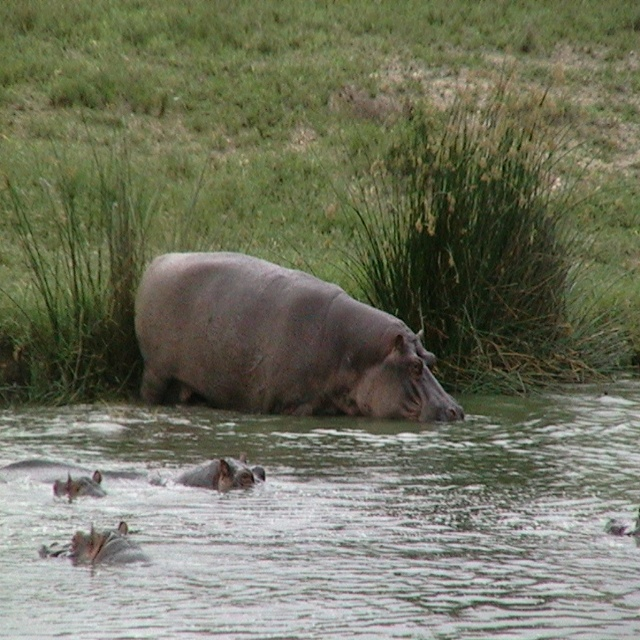Hippopotamus: (138, 250, 465, 423), (38, 523, 147, 562), (176, 458, 266, 488), (55, 472, 105, 494)
